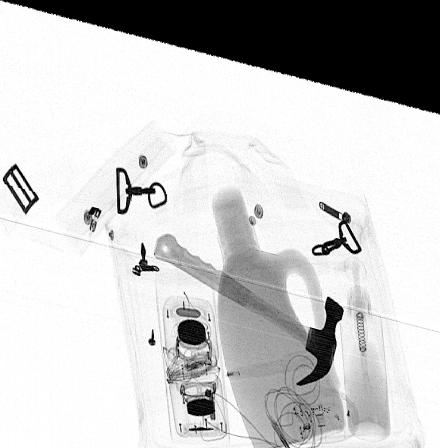Hammer: (154, 224, 345, 371)
